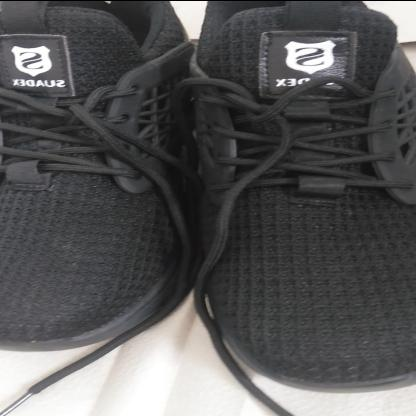safety-shoe: (0, 0, 413, 393)
